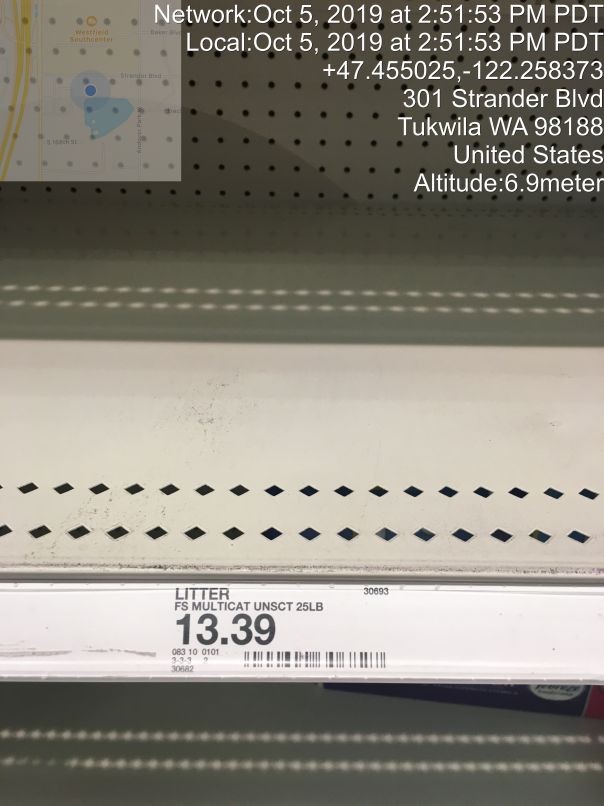Label: (169, 579, 393, 676)
Location: (394, 84, 604, 170)
Time: (144, 4, 604, 55)
Void: (9, 81, 583, 517)
